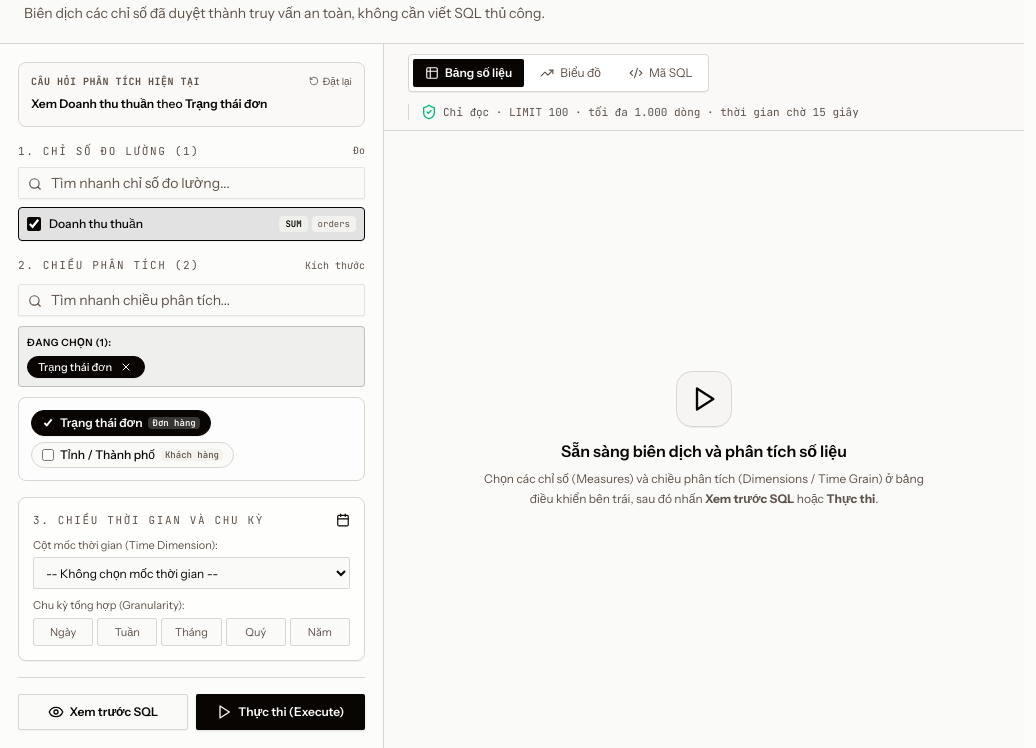
Test: MetricExplorerView › renders an interactive chart after a dashboard drill-down execute
(page scrolled)
Expected: the checkbox labelled "Doanh thu thuần SUM orders" is checked, [27,217,41,231]
Click the button "Thực thi (Execute)".
click(280, 712)  # box [196,694,365,730]
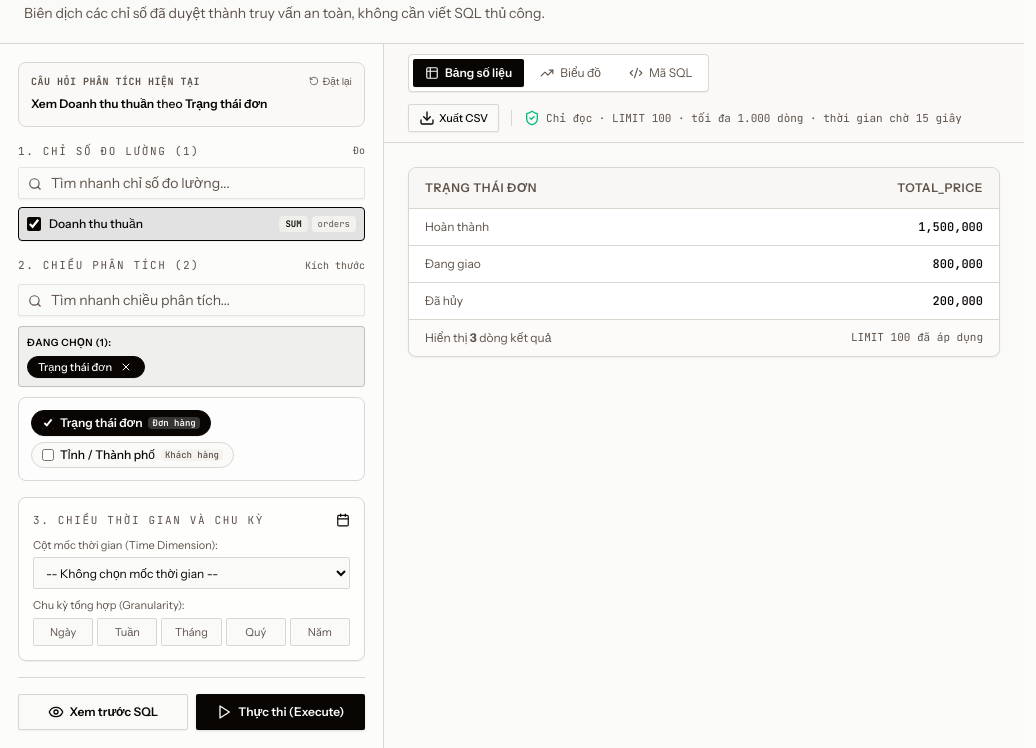
Expected: the text "Hoàn thành" is shown, [409,208,734,245]
Click the button "Biểu đồ".
click(571, 73)  # box [528,59,613,87]
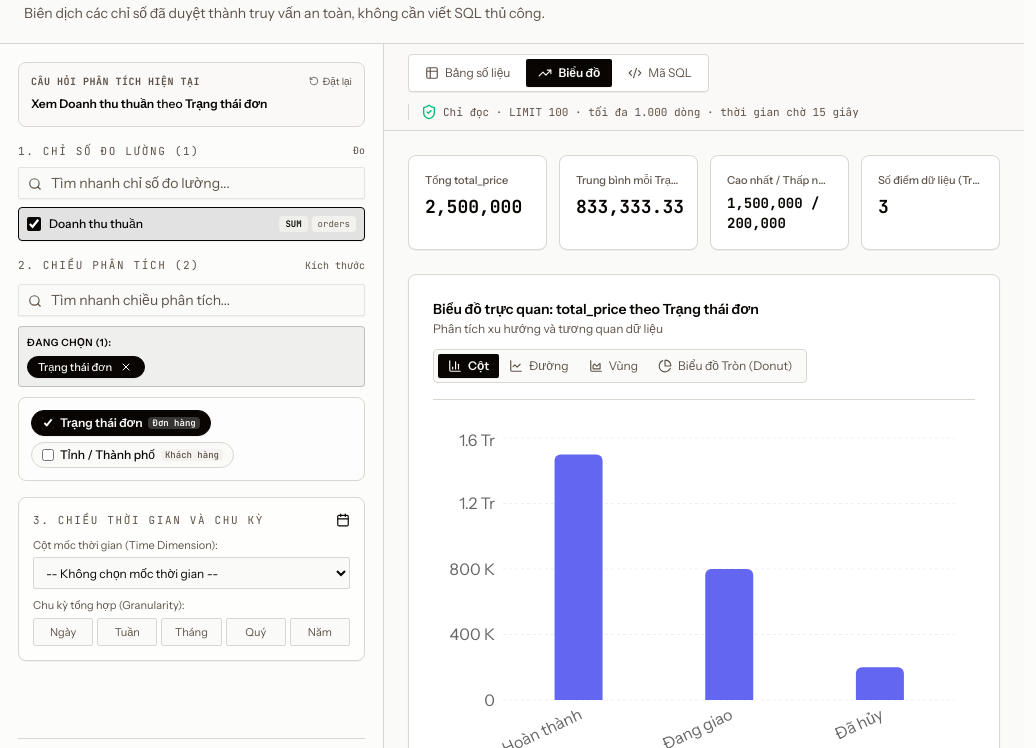
Expected: the heading "Biểu đồ trực quan: total_price theo Trạng thái đơn" is shown, [433,299,759,319]
Expected: the button "Cột" is shown, [438,354,499,378]
